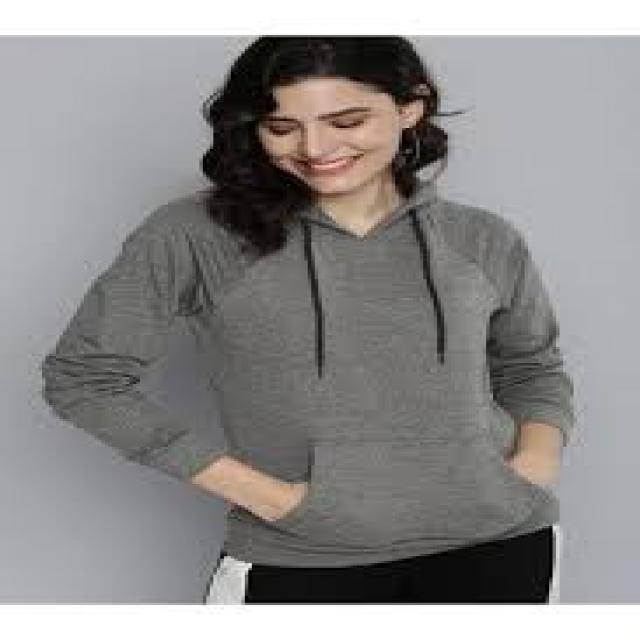plain: (0, 168, 640, 561)
